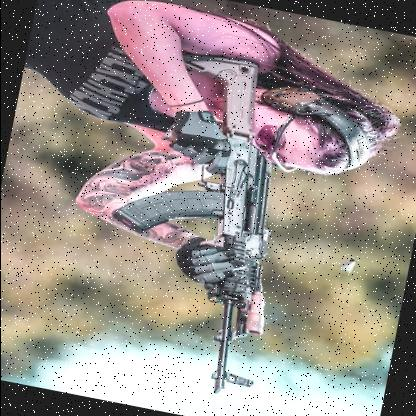rifle: (79, 28, 319, 398)
